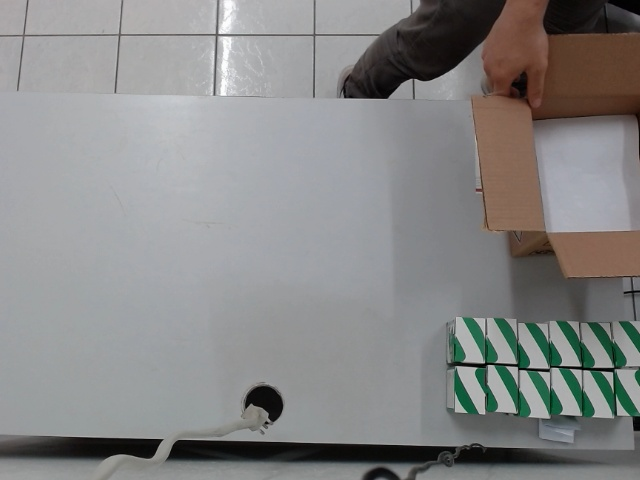caixa_principal: (473, 22, 640, 283)
